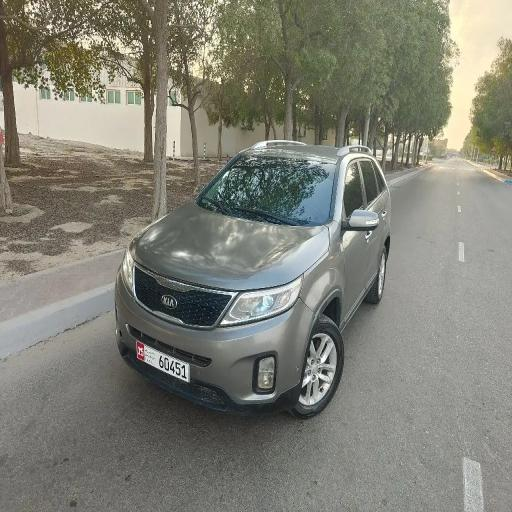license-plates: (137, 340, 189, 383)
